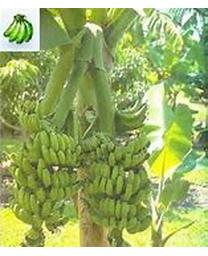banana: (83, 134, 153, 233), (9, 130, 78, 229), (2, 14, 32, 43)
